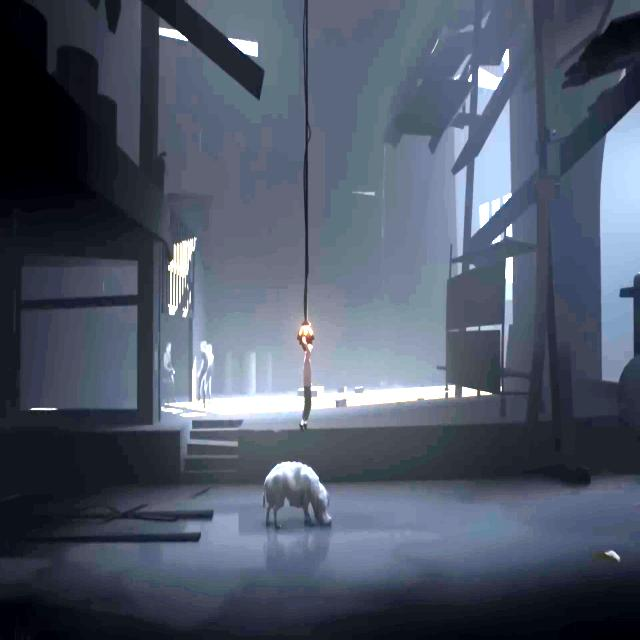boy: (300, 344, 312, 432)
interactible: (297, 325, 315, 340)
zombie: (195, 340, 206, 410), (163, 342, 175, 403), (206, 344, 214, 404)
